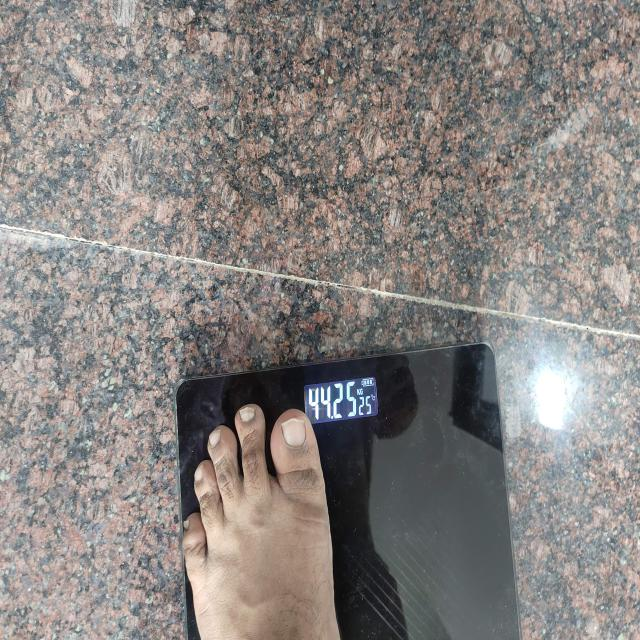ws: (280, 362, 393, 575)
